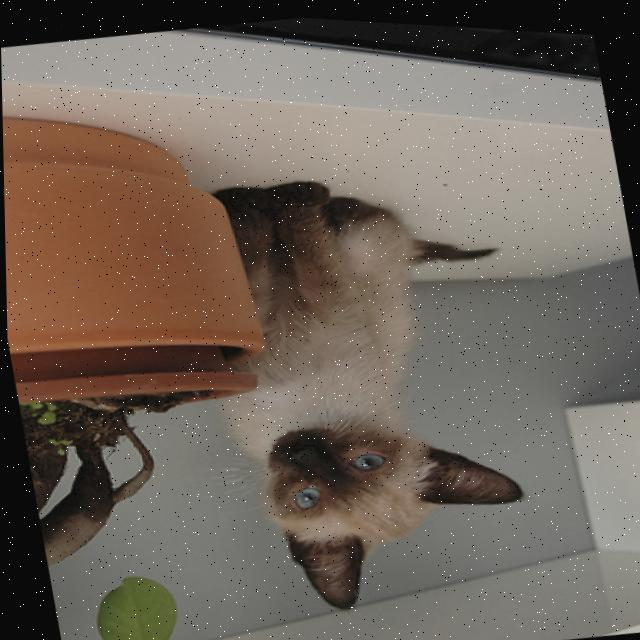Siamese: (155, 136, 561, 638)
